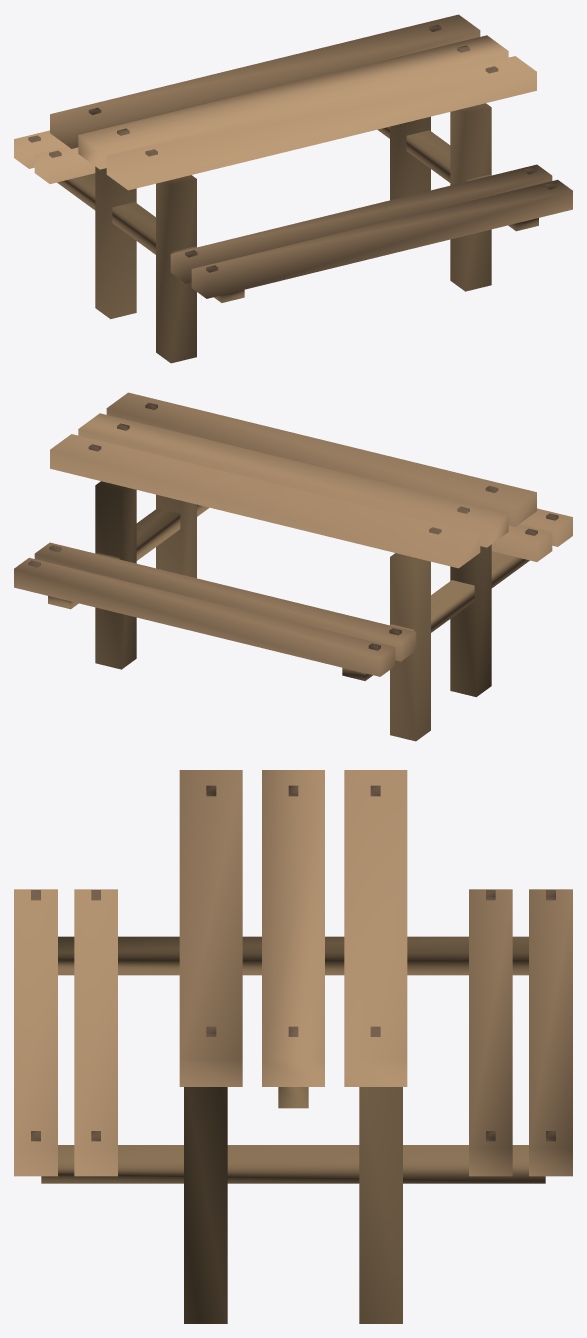
The model's file is picnic_table.glb.
The picture shows the model from 3 angles, top to bottom: view 1: azimuth 30°, elevation 25°; view 2: azimuth 150°, elevation 25°; view 3: azimuth 270°, elevation 25°; orthographic projection. The views are drawn at different scales.
Visible parts, largest first — view 1: picnic_table; view 2: picnic_table; view 3: picnic_table.
Boxes of the visible parts, left/top/right/bottom form: picnic_table: left=14, top=14, right=572, bottom=363; picnic_table: left=14, top=392, right=572, bottom=741; picnic_table: left=14, top=770, right=572, bottom=1323.
Size of the model in its own units: 1.25 by 0.606 by 1.02.
